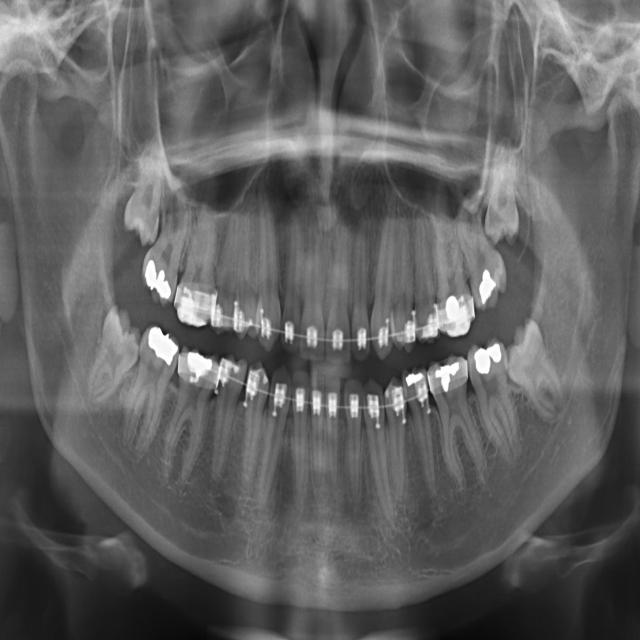AmalgamRestoration: (142, 256, 174, 308), (178, 346, 217, 386), (140, 327, 184, 362), (472, 343, 504, 378), (474, 268, 502, 306), (436, 359, 461, 395), (398, 368, 428, 396)
CompositeResinRestoration: (174, 285, 221, 328)
ImpactedTooth: (505, 301, 574, 434), (78, 296, 146, 400), (120, 146, 177, 250), (482, 143, 535, 247)
